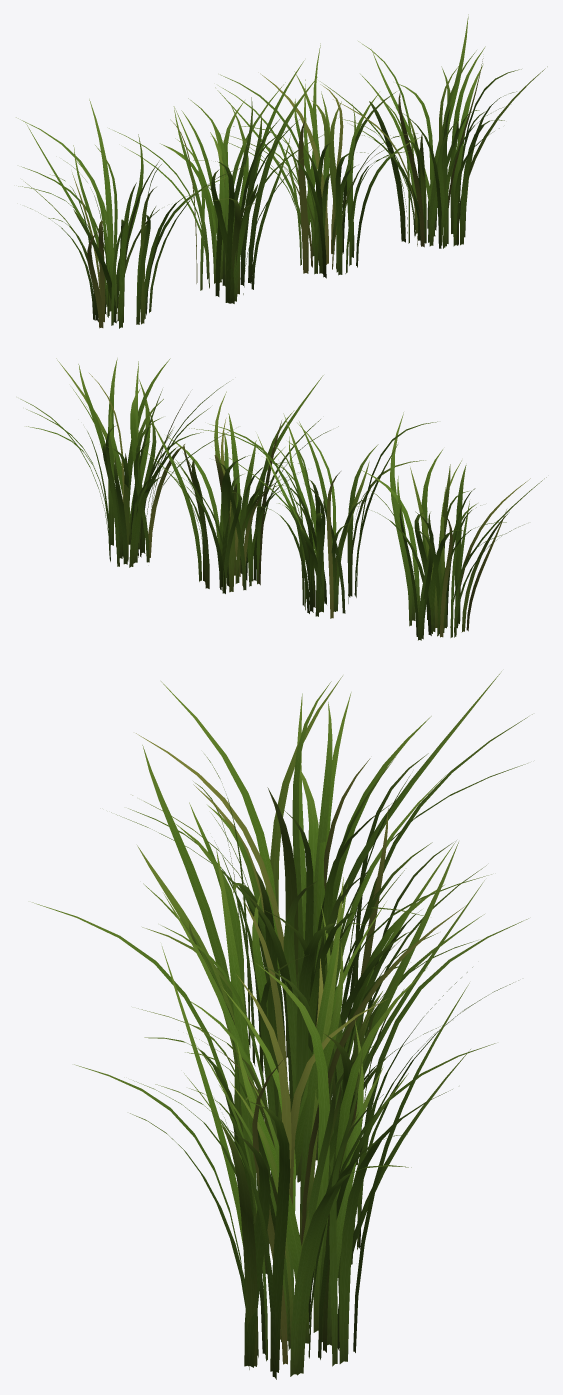
File: grass_tall_lod0.glb
The picture shows the model from 3 angles, top to bottom: view 1: azimuth 30°, elevation 25°; view 2: azimuth 150°, elevation 25°; view 3: azimuth 270°, elevation 25°; orthographic projection. The views are drawn at different scales.
Visible parts, largest first — view 1: Grass_tall_04_LOD0, Grass_tall_02_LOD0, Grass_tall_03_LOD0, Grass_tall_01_LOD0; view 2: Grass_tall_01_LOD0, Grass_tall_03_LOD0, Grass_tall_04_LOD0, Grass_tall_02_LOD0; view 3: Grass_tall_04_LOD0, Grass_tall_01_LOD0, Grass_tall_02_LOD0, Grass_tall_03_LOD0.
Part boxes in pixels (bbox=[...]): Grass_tall_04_LOD0: bbox=[320, 14, 547, 248]; Grass_tall_02_LOD0: bbox=[109, 60, 327, 303]; Grass_tall_03_LOD0: bbox=[215, 43, 420, 278]; Grass_tall_01_LOD0: bbox=[16, 99, 245, 328]; Grass_tall_01_LOD0: bbox=[352, 412, 546, 640]; Grass_tall_03_LOD0: bbox=[140, 375, 338, 593]; Grass_tall_04_LOD0: bbox=[20, 358, 233, 567]; Grass_tall_02_LOD0: bbox=[189, 413, 437, 618]; Grass_tall_04_LOD0: bbox=[74, 946, 495, 1379]; Grass_tall_01_LOD0: bbox=[111, 671, 532, 1072]; Grass_tall_02_LOD0: bbox=[137, 745, 491, 1182]; Grass_tall_03_LOD0: bbox=[32, 842, 528, 1273].
Size of the model in its own units: 4.16 by 1.39 by 1.83.
1 material, 1 textured.
